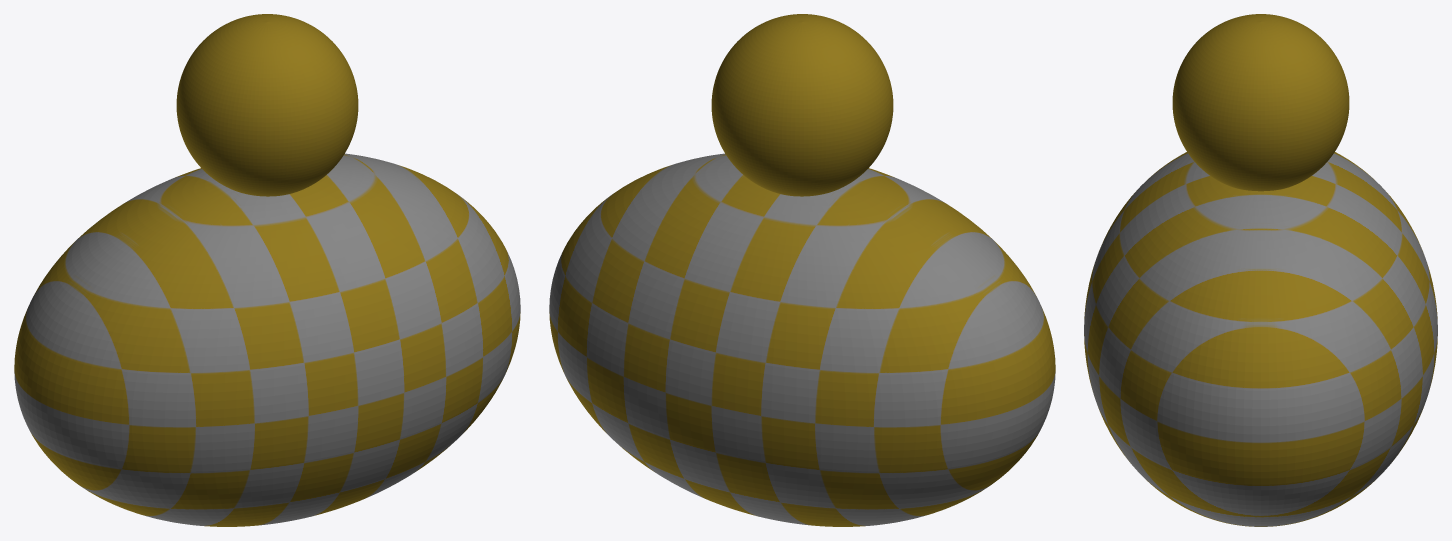
The model's file is BOD1_BMC4_BCC0_BPT4_FRC0_HEA0_HMC4_HCC0_HPT0_ELT0_ERT0_ELL0_ERL0_AP0_AAL0_AAR0_BEK0.fbx.
The picture shows the model from 3 angles, left to right: view 1: azimuth 30°, elevation 25°; view 2: azimuth 150°, elevation 25°; view 3: azimuth 270°, elevation 25°; orthographic projection. The views are drawn at different scales.
Parts seen in each view (by area): view 1: Body, Head; view 2: Body, Head; view 3: Body, Head.
Part boxes in pixels (x1,y1,x2,y2): Body: [14, 153, 520, 526]; Head: [176, 14, 358, 196]; Body: [549, 153, 1055, 526]; Head: [711, 14, 893, 196]; Body: [1084, 152, 1437, 526]; Head: [1172, 14, 1349, 191].
Bounding box in the file's own units: 148 × 145 × 98.72.
Materials: 2 (2 with a texture image).
